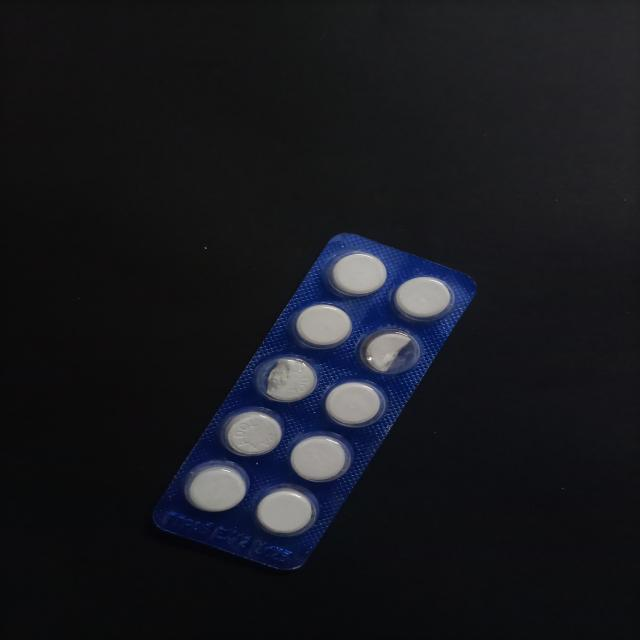defect: (249, 354, 321, 405), (358, 326, 422, 377)
